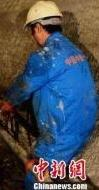boots: (0, 137, 8, 165), (0, 135, 6, 163)
gloves: (0, 99, 16, 116)
hard-hat: (23, 0, 63, 29)
ppe-suit: (0, 38, 26, 141)
